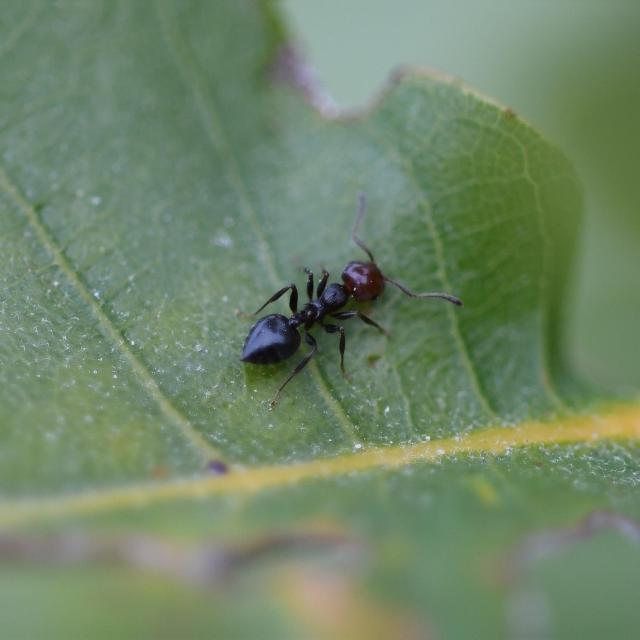Crematogaster: (228, 238, 394, 384)
